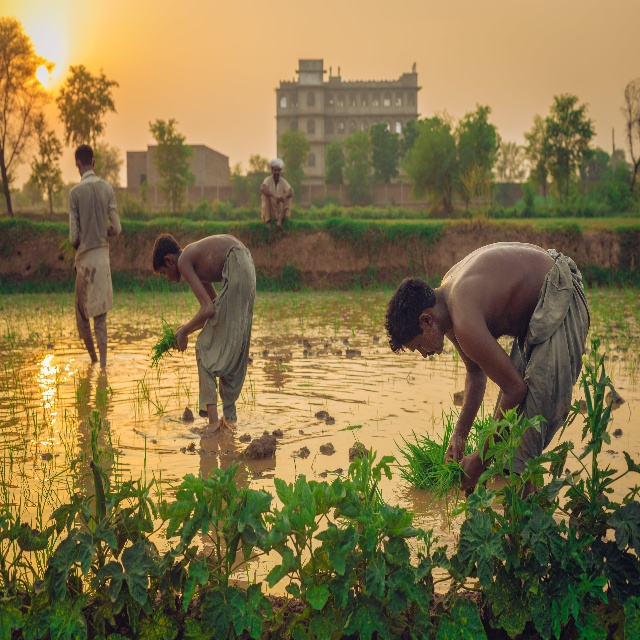Sin_guantes: (457, 450, 486, 488), (444, 434, 466, 465), (174, 325, 188, 349), (274, 194, 279, 204), (280, 193, 284, 202)
